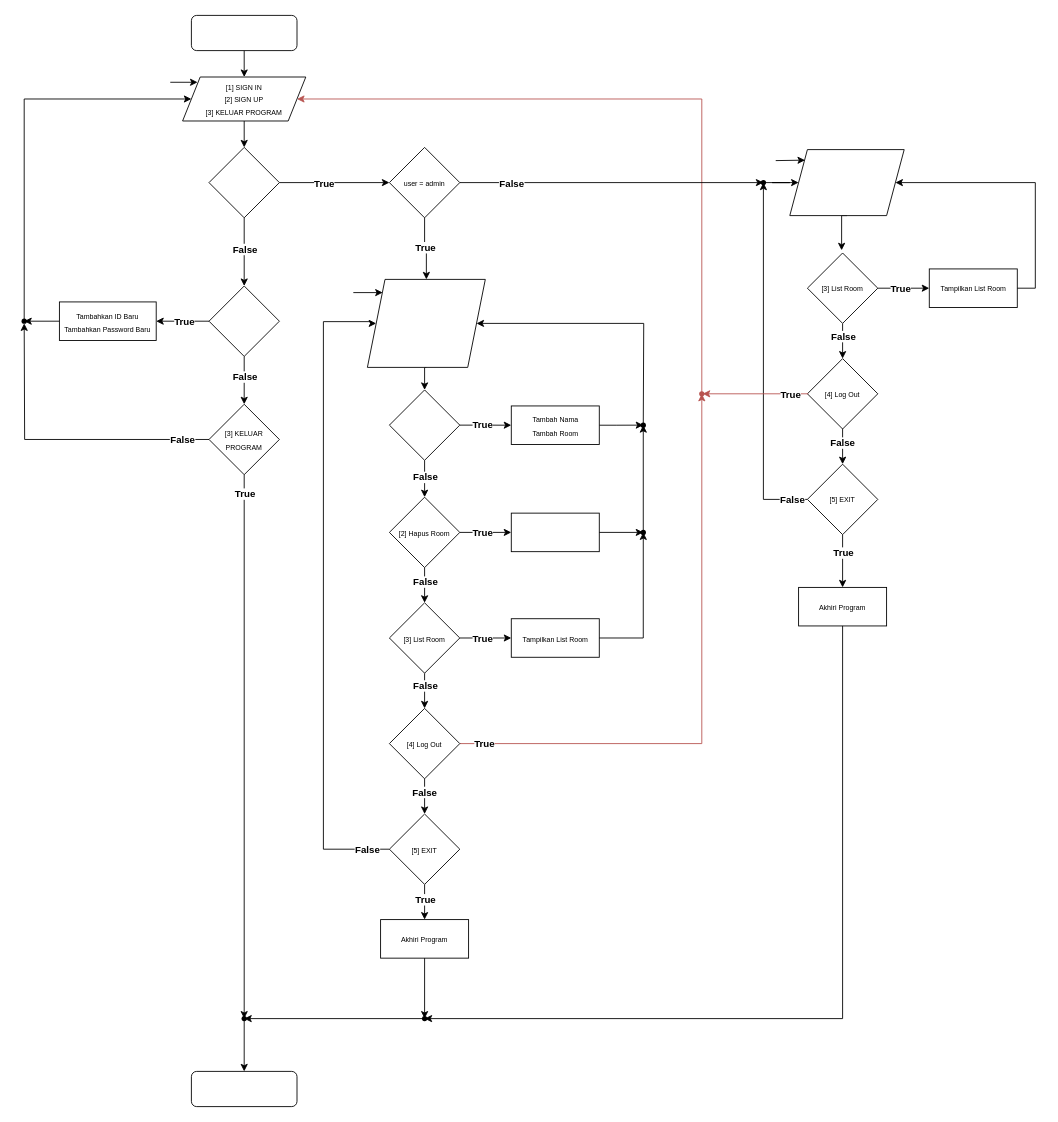
This 1058x1122 diagram has some shape labels left out. The shapes that lost their labels are listed below. From the top down, each one's centre as x and y in pixels, then its label:
the point at 244,33: start
the point at 243,182: [1] SIGN IN
the point at 846,182: MENU USER [3] List Room [4] Log Out [5] EXIT
the point at 243,320: [2] SIGN UP
the point at 426,323: MENU ADMIN [1] Booking Room [2] Hapus Room [3] List Room [4] Log Out [5] EXIT
the point at 424,424: [1] Booking Room
the point at 554,532: Hapus Room
the point at 244,1089: end
